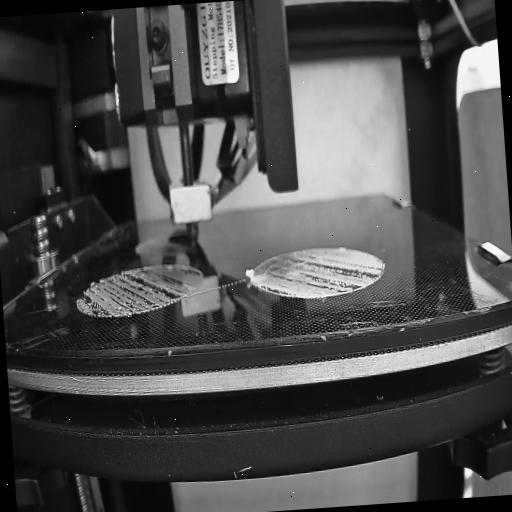under_extrusion: (258, 244, 386, 302), (78, 266, 202, 320)
